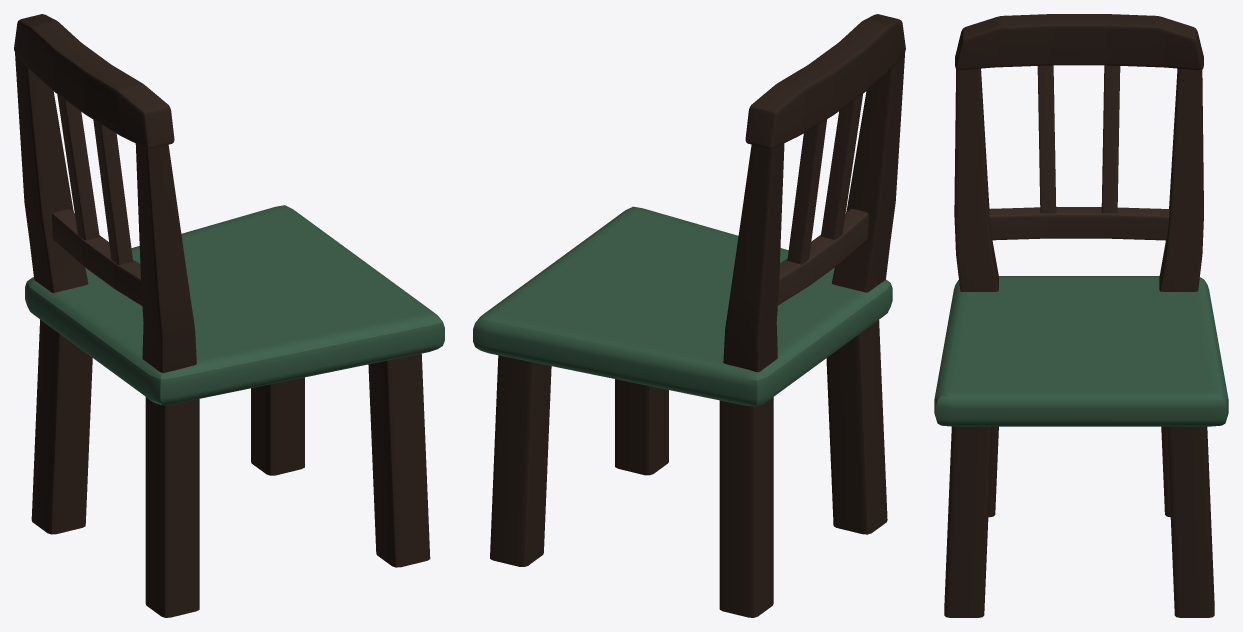
Rendered from DinnerChair_80s_v1.fbx.
3 renders of one model, left to right at view 1: azimuth 30°, elevation 25°; view 2: azimuth 150°, elevation 25°; view 3: azimuth 270°, elevation 25°, orthographic. The views are drawn at different scales.
Visible parts, largest first — view 1: M_DinnerChair_80s; view 2: M_DinnerChair_80s; view 3: M_DinnerChair_80s.
Part boxes in pixels (x1,y1,x2,y2): M_DinnerChair_80s: (14, 14, 444, 617); M_DinnerChair_80s: (473, 14, 905, 617); M_DinnerChair_80s: (934, 14, 1228, 617).
Size of the model in its own units: 5.46 by 8.97 by 5.04.
